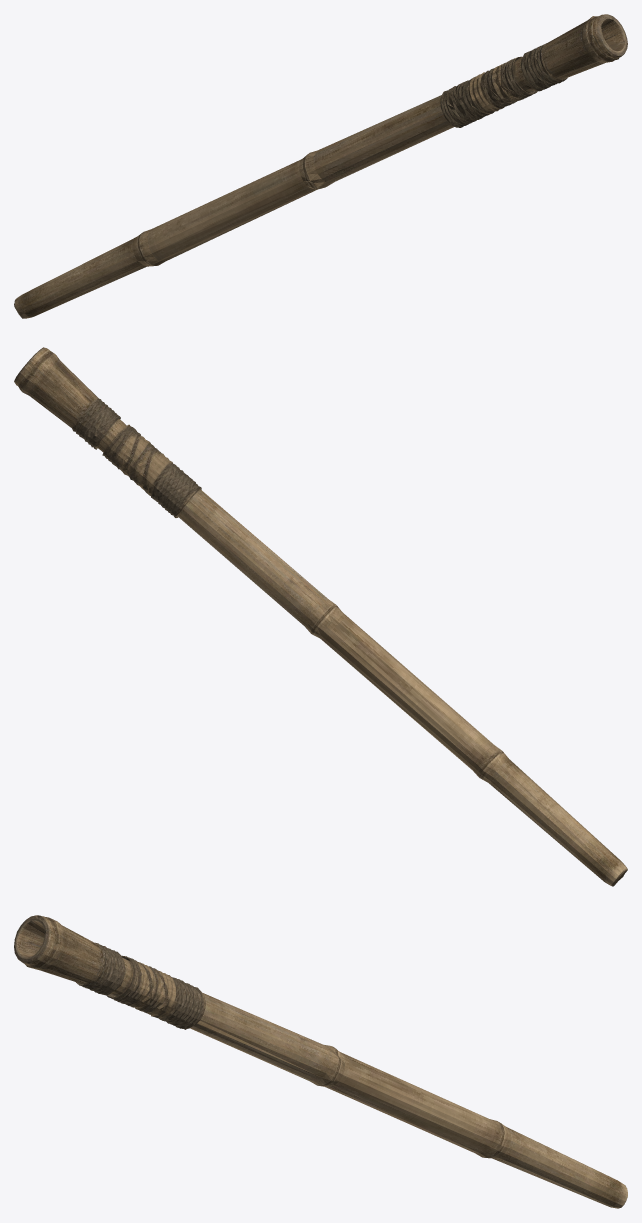
Rendered from ewm_blowpipe.glb.
The picture shows the model from 3 angles, top to bottom: view 1: azimuth 30°, elevation 25°; view 2: azimuth 210°, elevation 25°; view 3: azimuth 270°, elevation 25°; orthographic projection. The views are drawn at different scales.
Parts seen in each view (by area): view 1: ewm_blowpipe; view 2: ewm_blowpipe; view 3: ewm_blowpipe.
Boxes of the visible parts, left/top/right/bottom form: ewm_blowpipe: left=14, top=14, right=627, bottom=318; ewm_blowpipe: left=14, top=347, right=627, bottom=886; ewm_blowpipe: left=14, top=915, right=627, bottom=1208.
Size of the model in its own units: 0.5069 by 0.5863 by 0.7163.
Materials: 1 (1 with a texture image).
